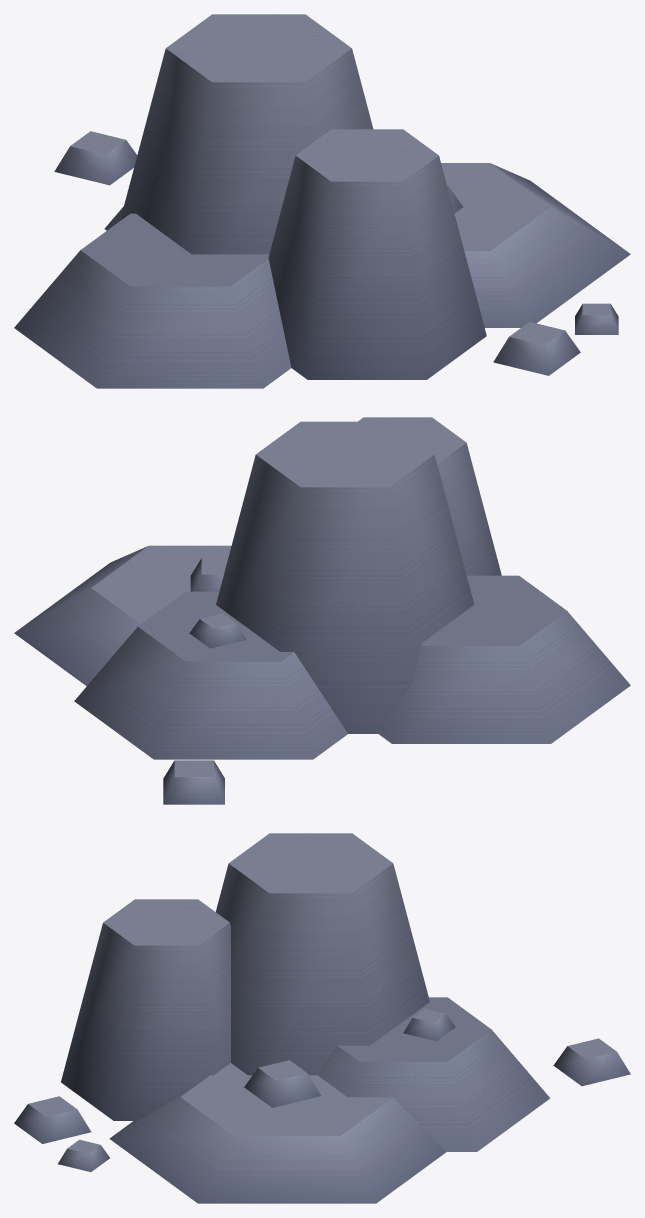
The model's file is rocks-large.glb.
3 renders of one model, top to bottom at view 1: azimuth 30°, elevation 25°; view 2: azimuth 150°, elevation 25°; view 3: azimuth 270°, elevation 25°, orthographic. The views are drawn at different scales.
Parts seen in each view (by area): view 1: rocks-large; view 2: rocks-large; view 3: rocks-large.
Boxes of the visible parts, x1,y1,x2,y2 form: rocks-large: [14, 14, 630, 388]; rocks-large: [14, 417, 630, 804]; rocks-large: [14, 833, 630, 1203].
Bounding box in the file's own units: 1.2 × 0.5 × 1.35.
Materials: 1 (1 with a texture image).
